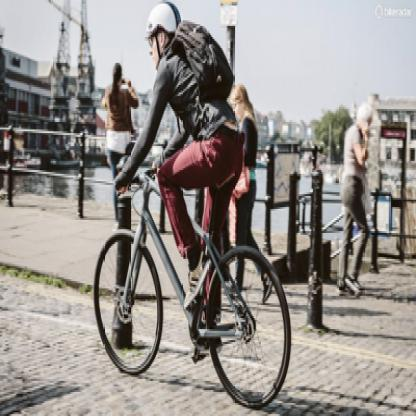With Helmet: (141, 0, 183, 71)
